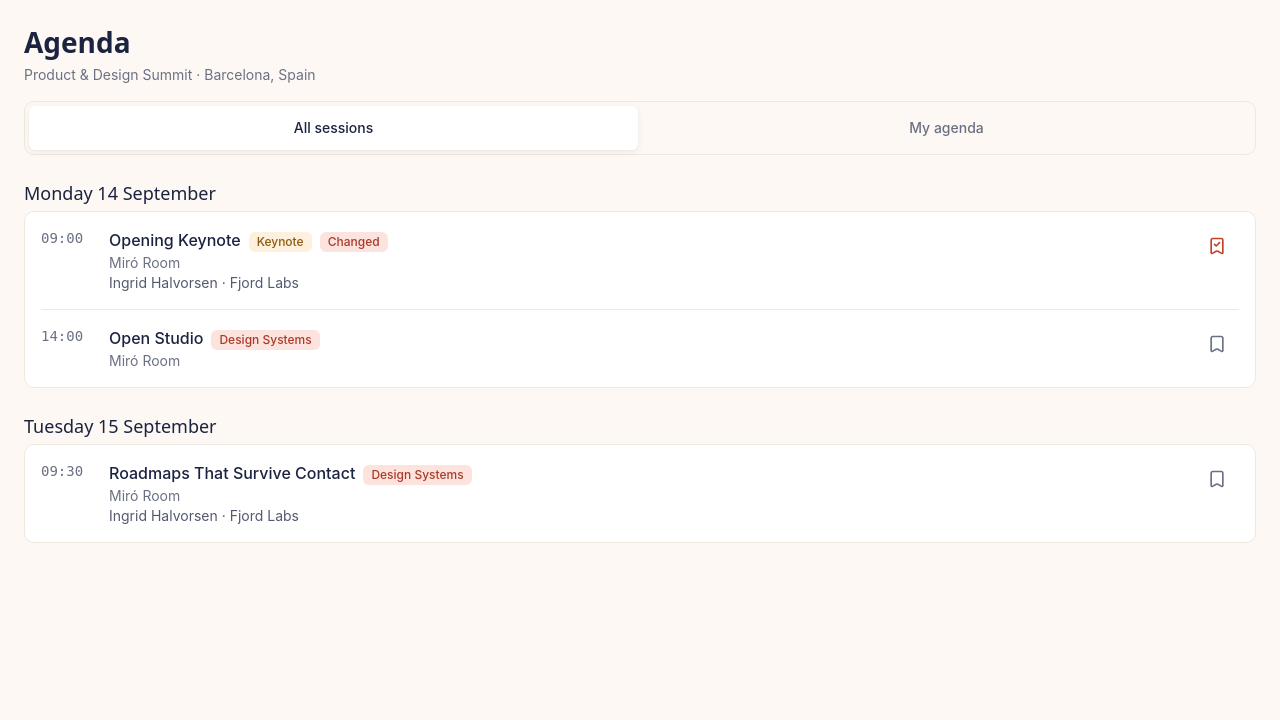
Test case: the change marker with notification permission denied (FR-1032, SC-1005) › clears the marker when the attendee opens the session, with permission still denied
Click the link "Opening Keynote" at x=175, y=240, box [109, 230, 241, 250]
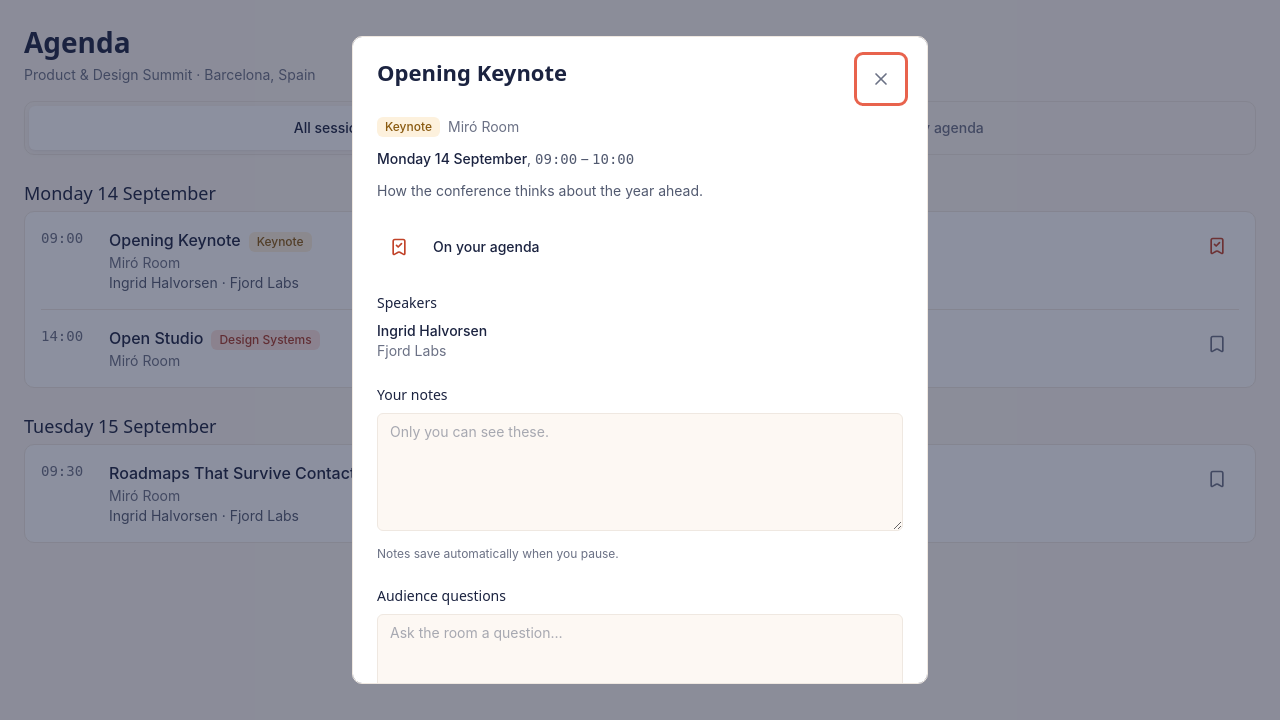
Now the heading "Opening Keynote" is shown, box [377, 57, 567, 88]
